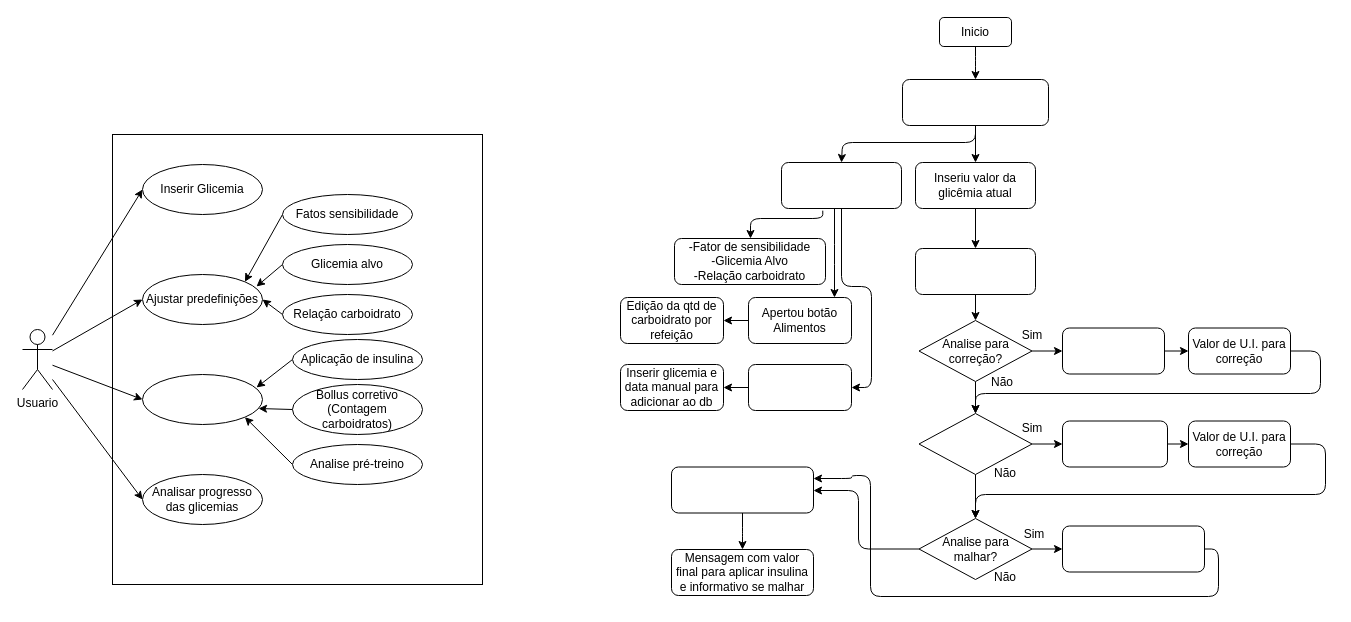
Some shapes in this 1351 by 622 pixel diagram are drawn without their labels. The shapes that lost their labels are listed below. From the top down, each one's box as (x1, y1, x2, y2) in pixels, then its label:
(902, 78, 1048, 126): Consultado no banco o F.S. e Glicemia alvo
(780, 162, 902, 208): Acesso as configurações
(914, 248, 1036, 294): Apertou botão para calcular
(1062, 327, 1164, 374): Cálculo com fator sensibilidade e glicemia alvo
(142, 374, 262, 424): Resultado da glicemia
(748, 364, 852, 410): Apertou botão Inserir registro
(918, 412, 1032, 474): Analise para alimentação?
(1062, 420, 1168, 467): Seleciona a alimentação alvo
(670, 466, 814, 513): Insere registro no banco de dados com glicemia e data atual da analise
(1062, 525, 1204, 572): Informativo com quantidade de carboidratos necessários
